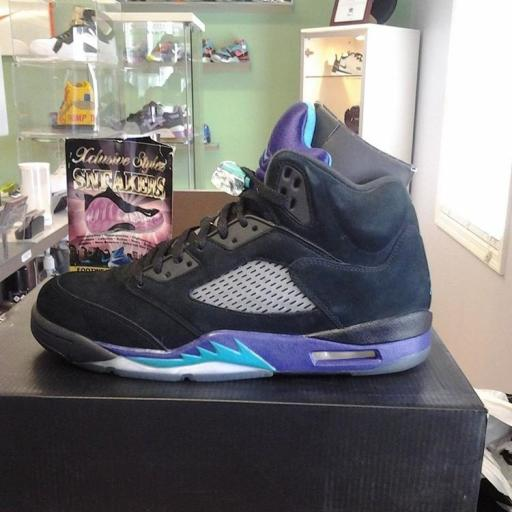shoe: (32, 116, 432, 380), (29, 6, 117, 64), (55, 81, 96, 128), (146, 34, 185, 64), (211, 39, 249, 63), (331, 51, 363, 76), (202, 39, 216, 63)
